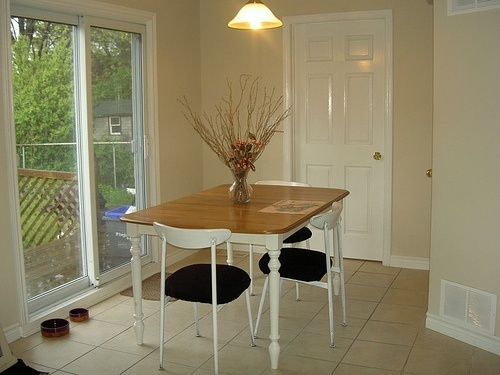chair: (150, 221, 259, 375), (252, 201, 348, 347), (250, 175, 318, 248)
diningtable: (124, 182, 352, 370)
